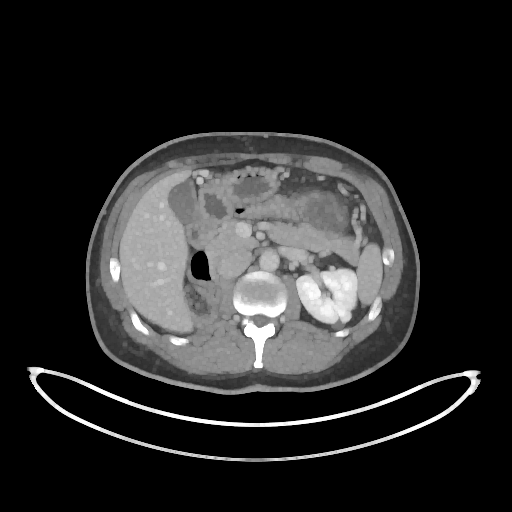Lesion: (330, 318, 347, 331)
